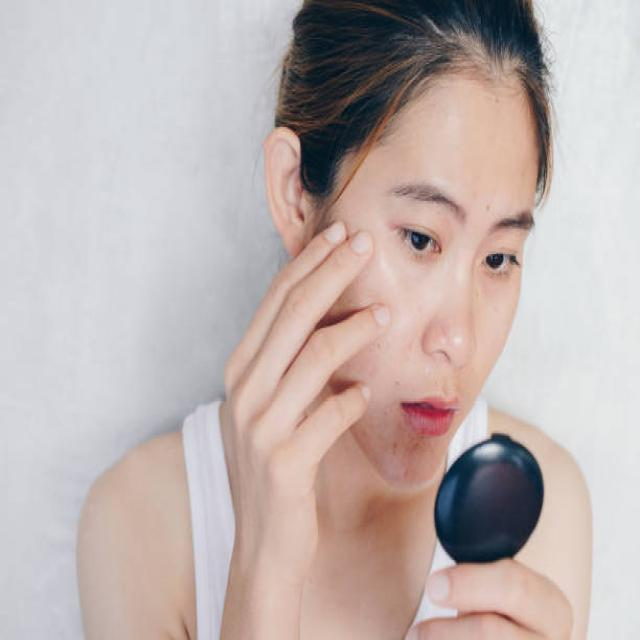dry: (462, 126, 515, 256), (398, 101, 478, 187), (392, 442, 470, 504), (478, 303, 556, 349), (392, 310, 445, 371)
